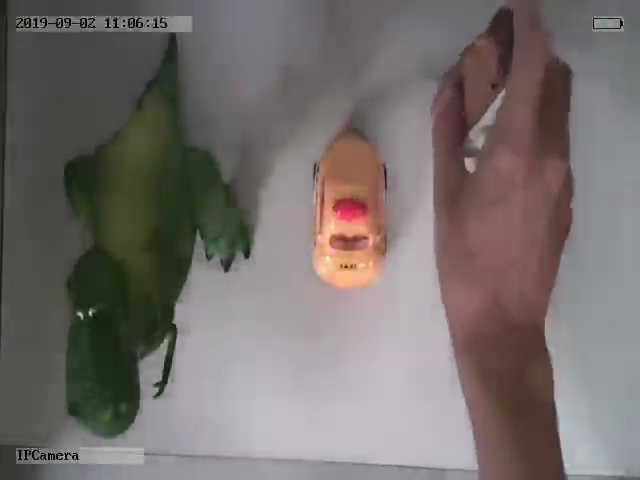car: (309, 128, 390, 290)
rex: (62, 60, 252, 439)
